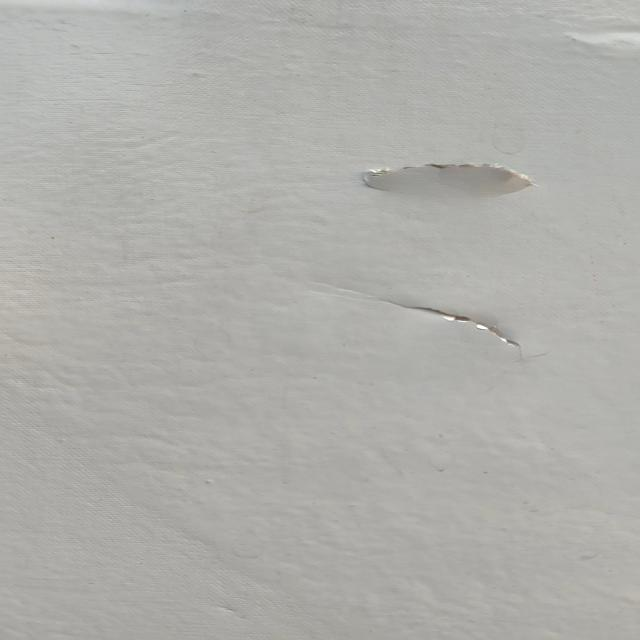Scratches: (371, 280, 555, 363), (360, 150, 561, 202)
